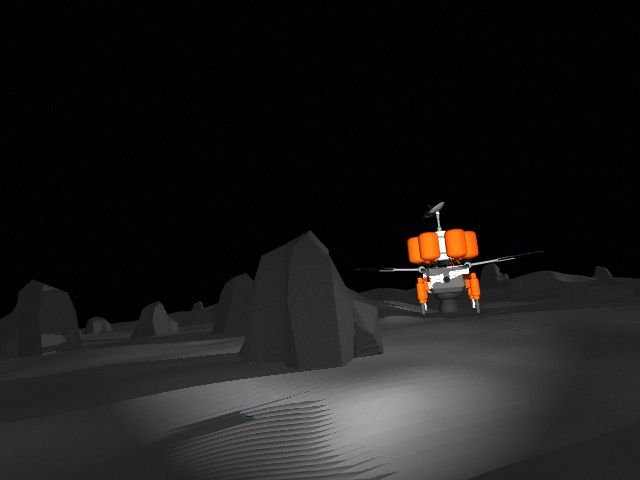homebase: (355, 199, 546, 315)
